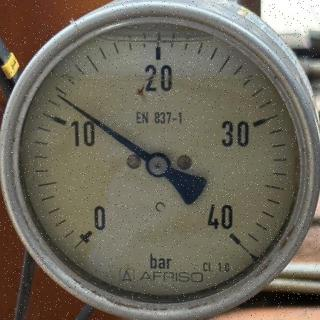gauge: (0, 0, 320, 320), (70, 212, 106, 252), (218, 221, 248, 251), (145, 151, 171, 177), (52, 90, 66, 104)
